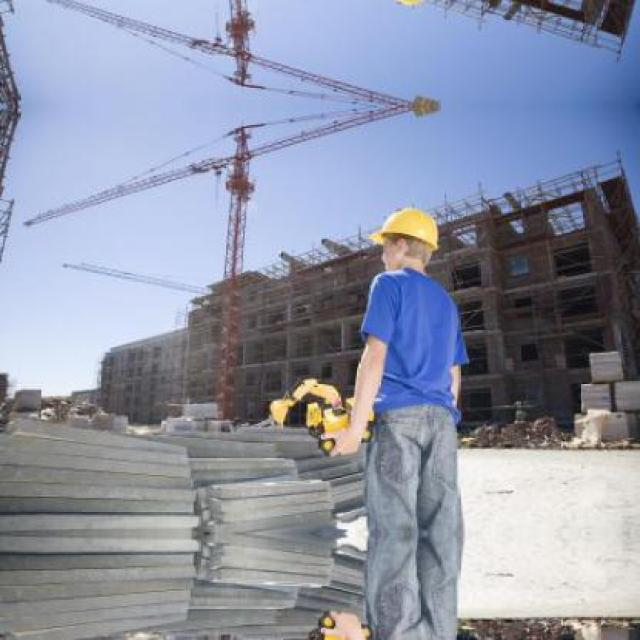helmet: (374, 201, 444, 279)
